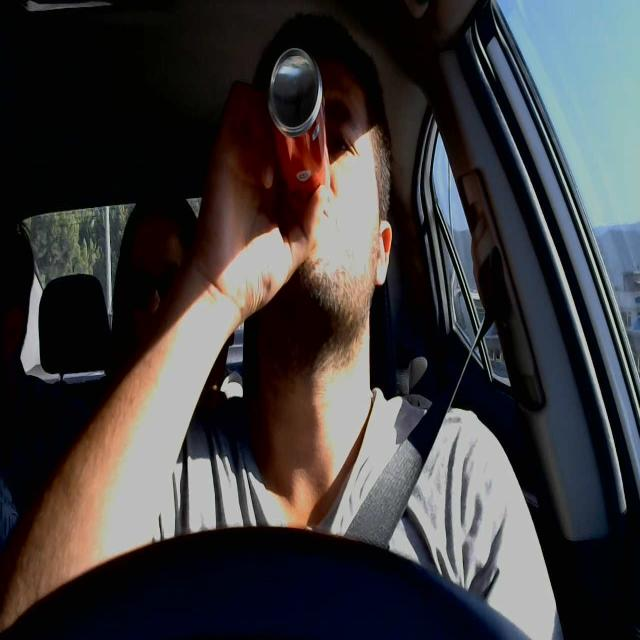3: (364, 320, 502, 538)
Seatbelt: (190, 15, 350, 318)
